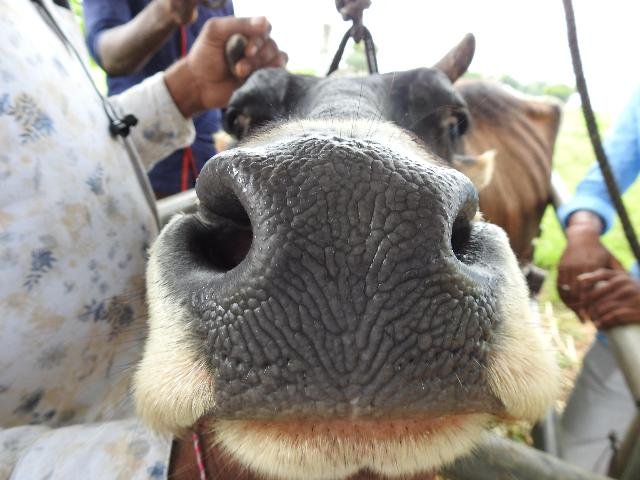Muzzle: (223, 160, 472, 414)
